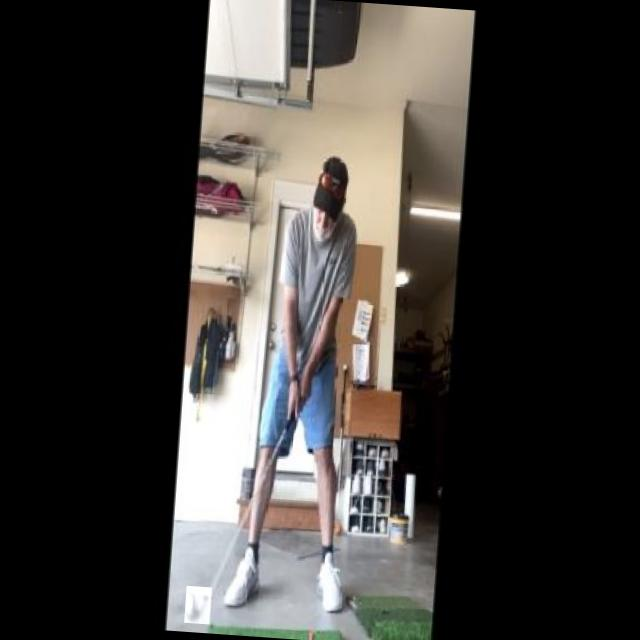club head: (184, 585, 213, 624)
